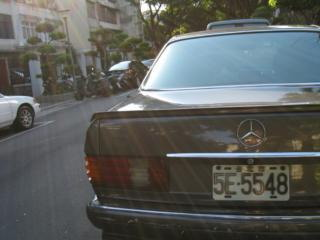plate: (210, 162, 290, 204)
